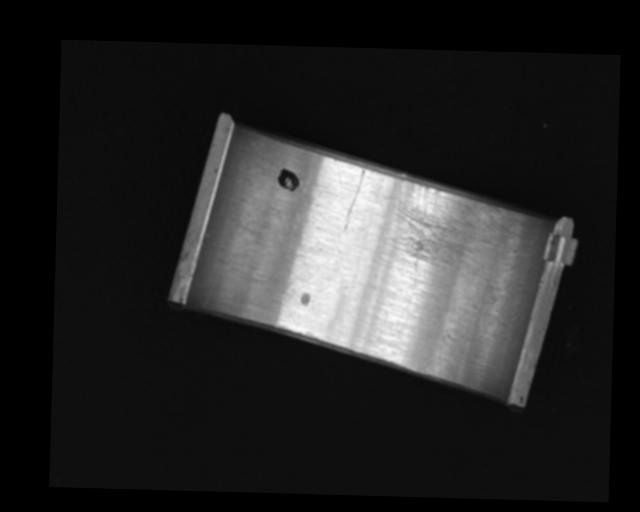blot: (276, 167, 301, 191)
bruise: (299, 291, 310, 307)
nick: (203, 219, 253, 310), (342, 168, 365, 232)
scratch: (391, 177, 506, 272)
